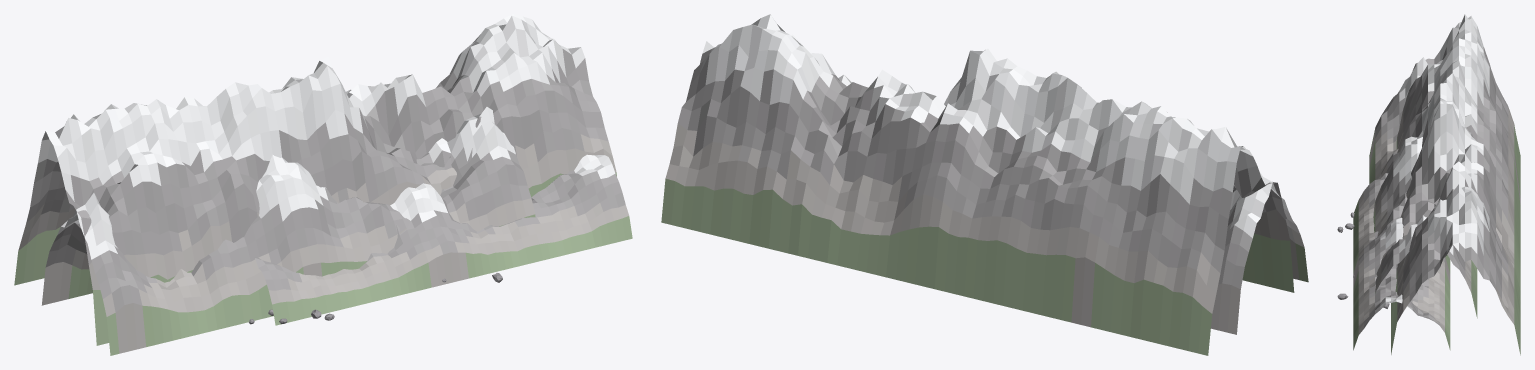
The model's file is mountains.glb.
3 renders of one model, left to right at view 1: azimuth 30°, elevation 25°; view 2: azimuth 150°, elevation 25°; view 3: azimuth 270°, elevation 25°, orthographic. The views are drawn at different scales.
Parts seen in each view (by area): view 1: ridge_far, ridge_mid, ridge_near; view 2: ridge_far, ridge_mid; view 3: ridge_far, ridge_near, ridge_mid.
Boxes of the visible parts, x1,y1,x2,y2 form: ridge_far: (14, 14, 616, 345); ridge_mid: (41, 107, 535, 355); ridge_near: (254, 154, 632, 325); ridge_far: (661, 14, 1294, 355); ridge_mid: (838, 75, 1308, 334); ridge_far: (1391, 14, 1520, 355); ridge_near: (1353, 173, 1450, 350); ridge_mid: (1369, 57, 1477, 318).
Bounding box in the file's own units: 440 × 159 × 170.
